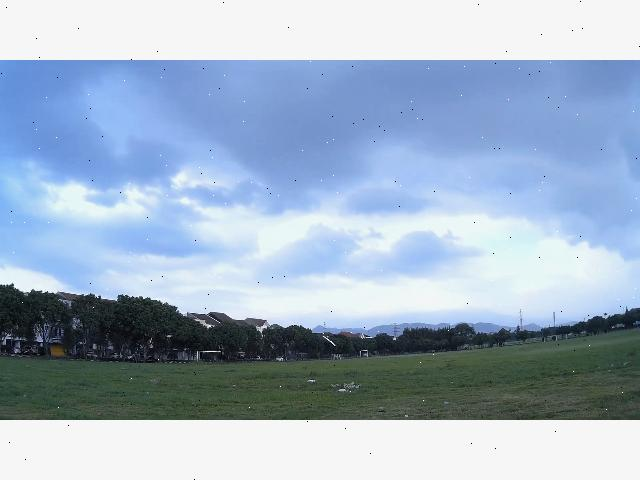Anti-Drone: (324, 336, 336, 346)
